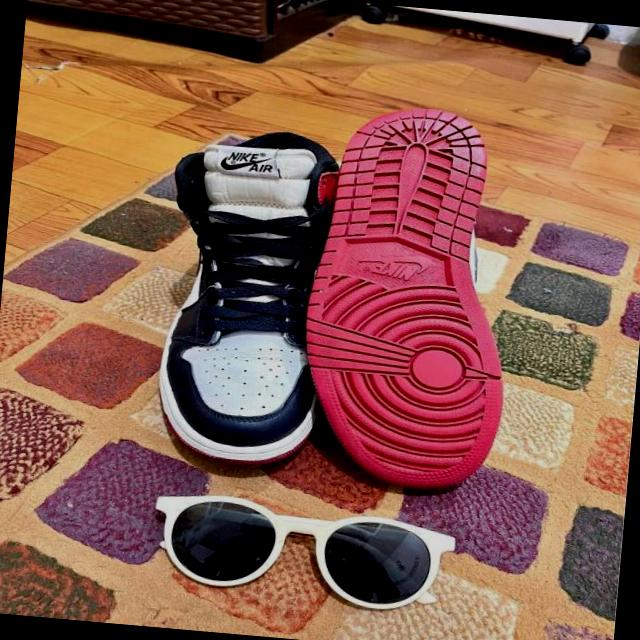nike_fake_jordan: (146, 111, 350, 476)
